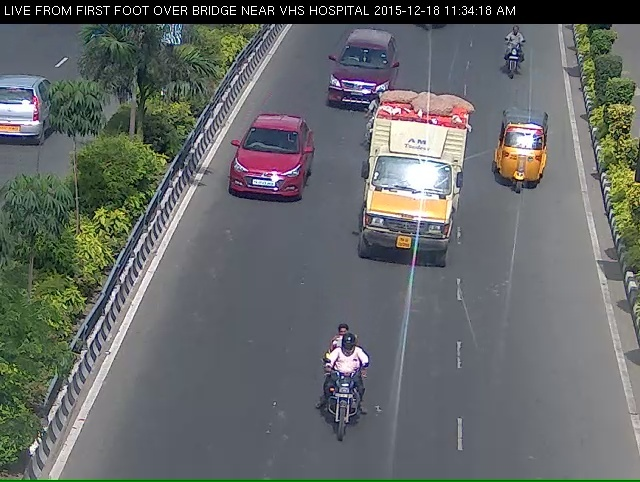Auto: (365, 105, 463, 285), (476, 110, 563, 206)
Car: (223, 122, 301, 225), (322, 38, 394, 124)
Person: (297, 351, 372, 481), (495, 31, 542, 94)
